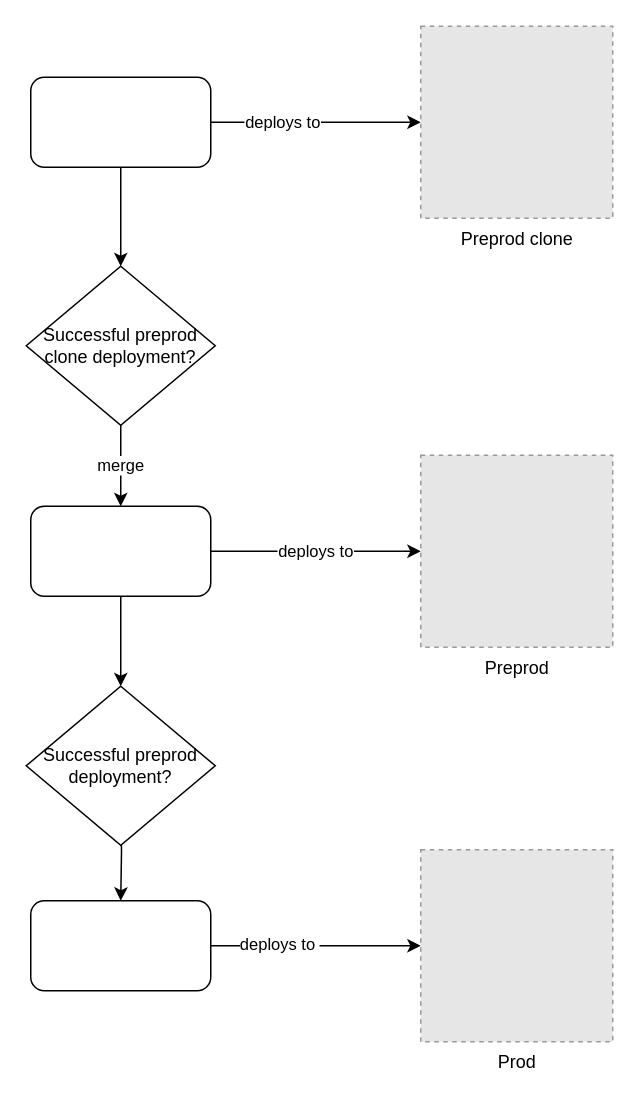
Image size: 639x1100. Some labels were removed from this diagram. Grey dashed boxes stand in for pictures. Here are the shapes that lost their labels. From the top down, the centre of each, then its label:
At pixel 120 121: "Feature branch".
At pixel 120 550: "Master branch".
At pixel 120 945: "Jenkins manual approval".
